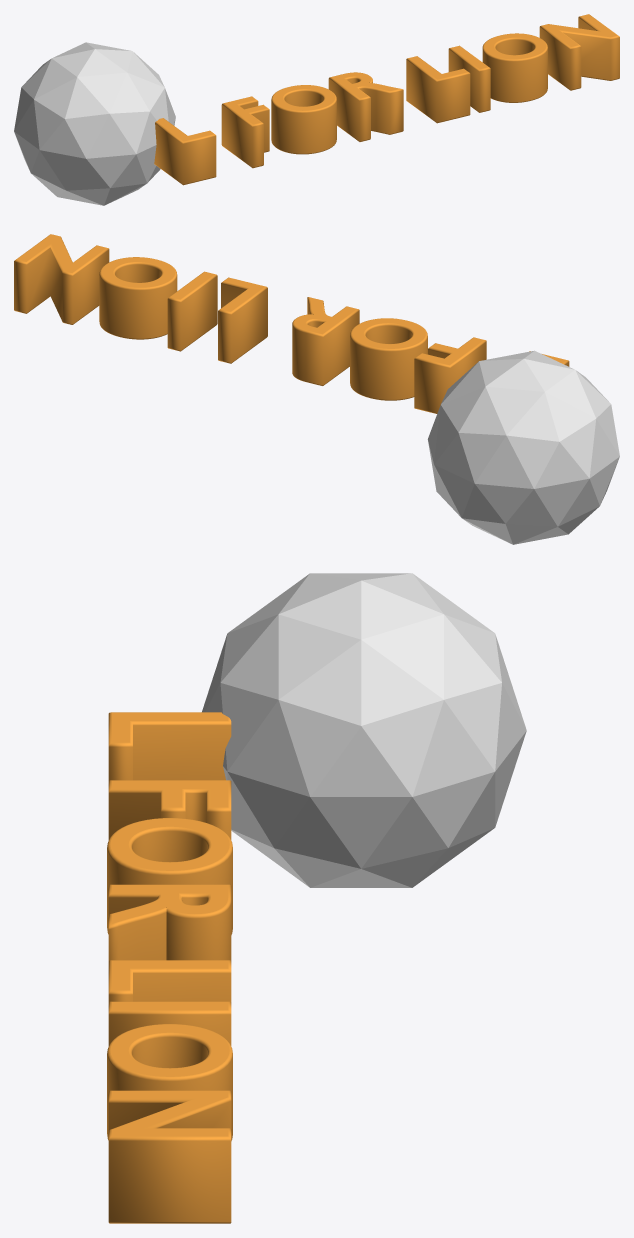
The model's file is lion text.fbx.
The picture shows the model from 3 angles, top to bottom: view 1: azimuth 30°, elevation 25°; view 2: azimuth 150°, elevation 25°; view 3: azimuth 270°, elevation 25°; orthographic projection. The views are drawn at different scales.
Visible parts, largest first — view 1: Text.001, Icosphere; view 2: Text.001, Icosphere; view 3: Icosphere, Text.001.
Part boxes in pixels (x1,y1,x2,y2): Text.001: [154, 14, 619, 185]; Icosphere: [14, 42, 175, 205]; Text.001: [14, 234, 569, 413]; Icosphere: [427, 350, 619, 544]; Icosphere: [202, 573, 526, 887]; Text.001: [107, 712, 232, 1223].
Size of the model in its own units: 740 by 200 by 254.
